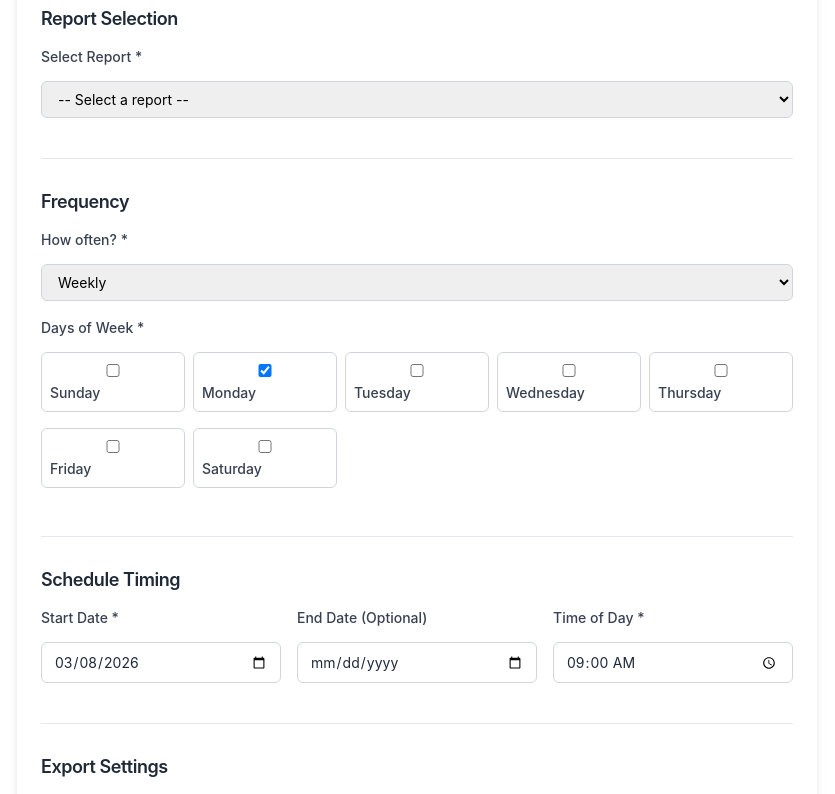
ScheduleForm › should show error message on submission failure
Select "Custom Report 1" in the dropdown labelled "Select Report *" at (417, 100), box [41,81,793,118]
(page scrolled)
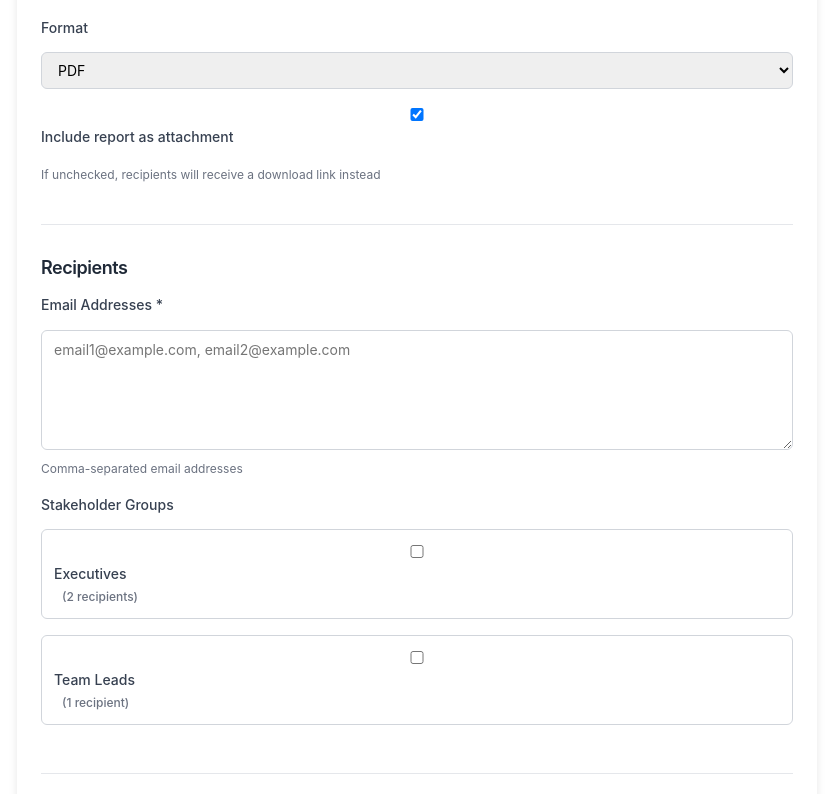
Type "test@example.com" into the text box labelled "Email Addresses *" at (417, 390), box [41,330,793,450]
(page scrolled)
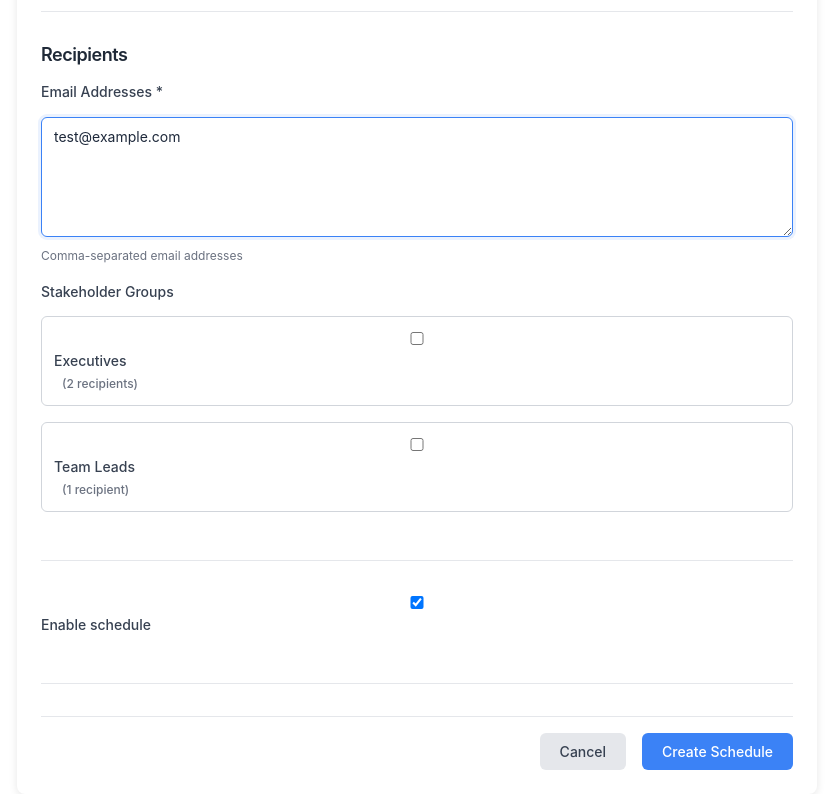
Click the button "Create Schedule" at (718, 752), box [642,734,793,770]
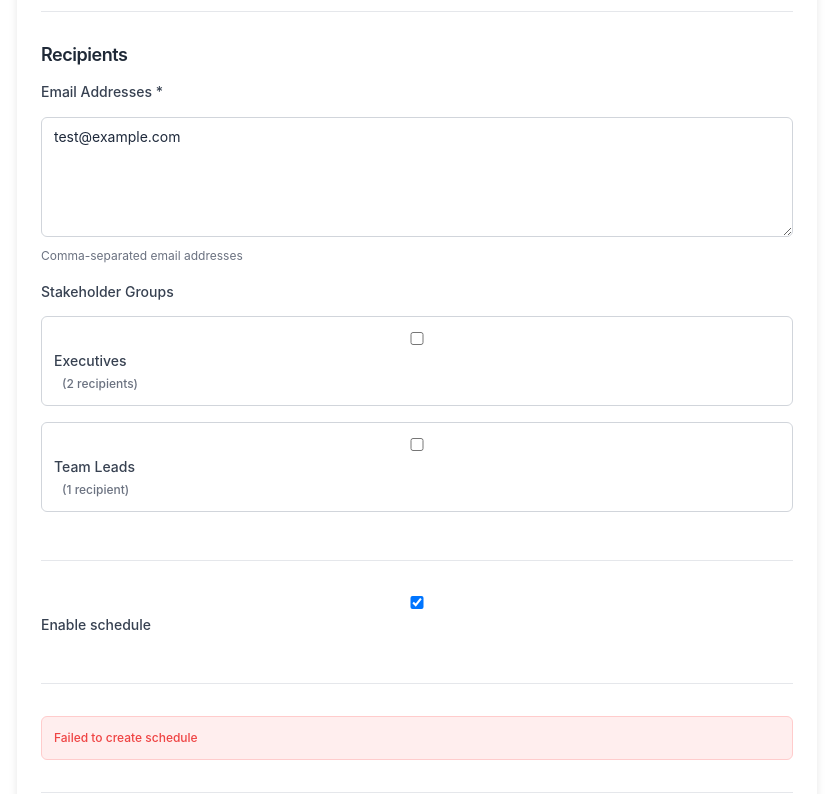
Expected: the text "Failed to create schedule" is shown, [41,716,793,760]
